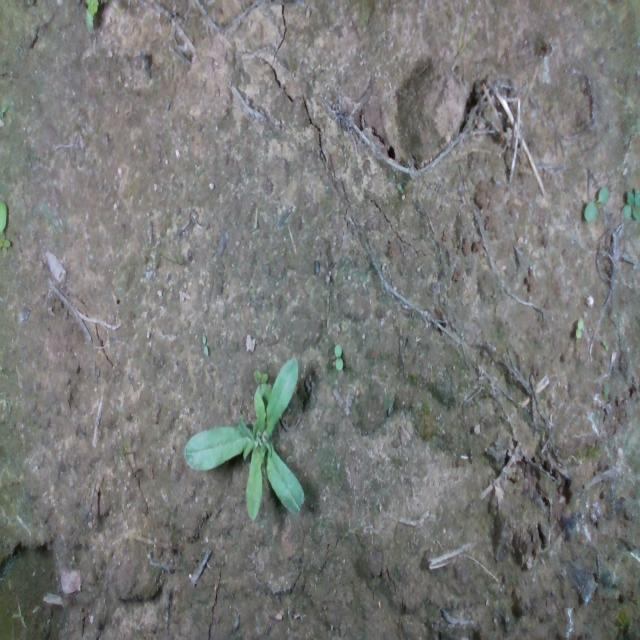weed: (582, 185, 610, 219), (332, 341, 343, 371), (574, 317, 584, 339)
